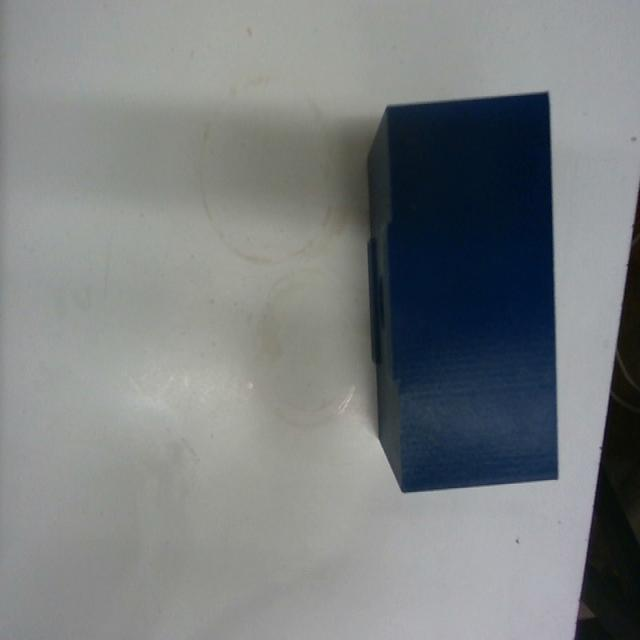Blue Cuboid: (363, 87, 561, 494)
